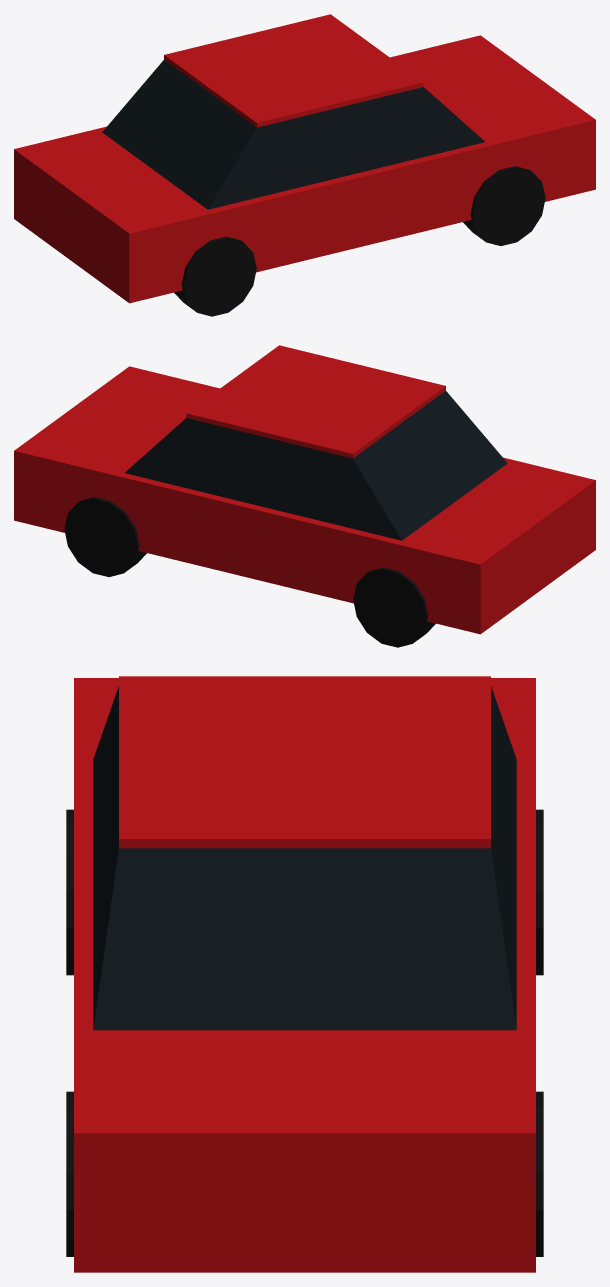
The model's file is AutoRojo.obj.
3 renders of one model, top to bottom at view 1: azimuth 30°, elevation 25°; view 2: azimuth 150°, elevation 25°; view 3: azimuth 270°, elevation 25°, orthographic. The views are drawn at different scales.
Visible parts, largest first — view 1: AutoRojo; view 2: AutoRojo; view 3: AutoRojo.
Part boxes in pixels (bbox=[...]): AutoRojo: bbox=[14, 14, 595, 316]; AutoRojo: bbox=[14, 345, 595, 647]; AutoRojo: bbox=[66, 676, 543, 1272].
Size of the model in its own units: 4.2 by 1.46 by 1.86.
